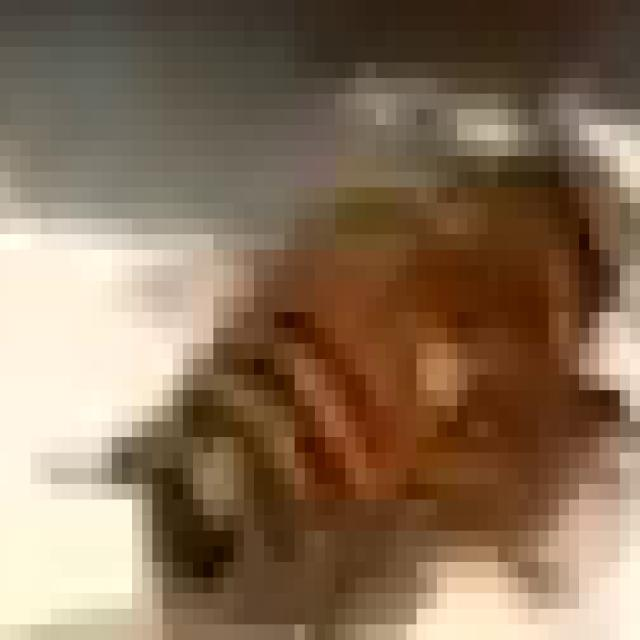honeybee: (124, 145, 598, 579)
